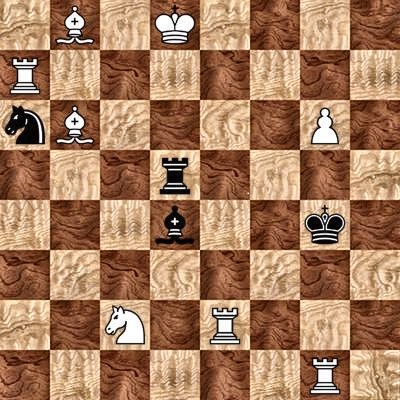black-bishop: (150, 200, 200, 250)
black-king: (300, 200, 350, 250)
black-knight: (0, 100, 50, 150)
black-rook: (150, 150, 200, 200)
white-bishop: (50, 0, 100, 50), (50, 100, 100, 150)
white-king: (150, 0, 200, 50)
white-knight: (100, 300, 150, 350)
white-pawn: (300, 100, 350, 150)
white-rook: (0, 50, 50, 100), (200, 300, 250, 350), (300, 350, 350, 400)
